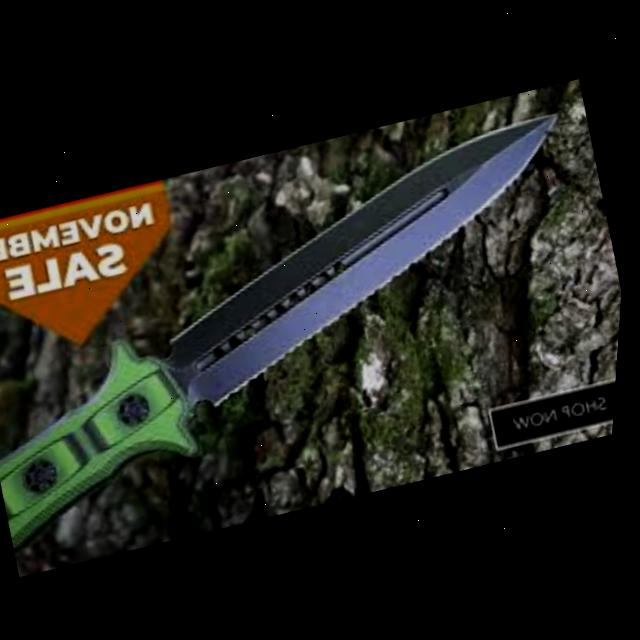knife: (0, 94, 635, 559)
